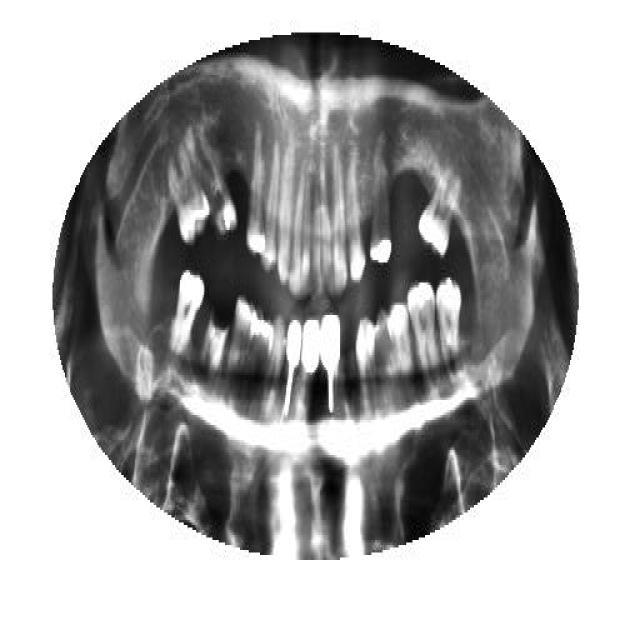Cavity: (200, 300, 230, 385)
Fillings: (408, 280, 442, 380), (370, 140, 394, 270), (245, 120, 266, 258), (300, 320, 319, 398)
Implant: (318, 310, 342, 412), (284, 320, 304, 420)
